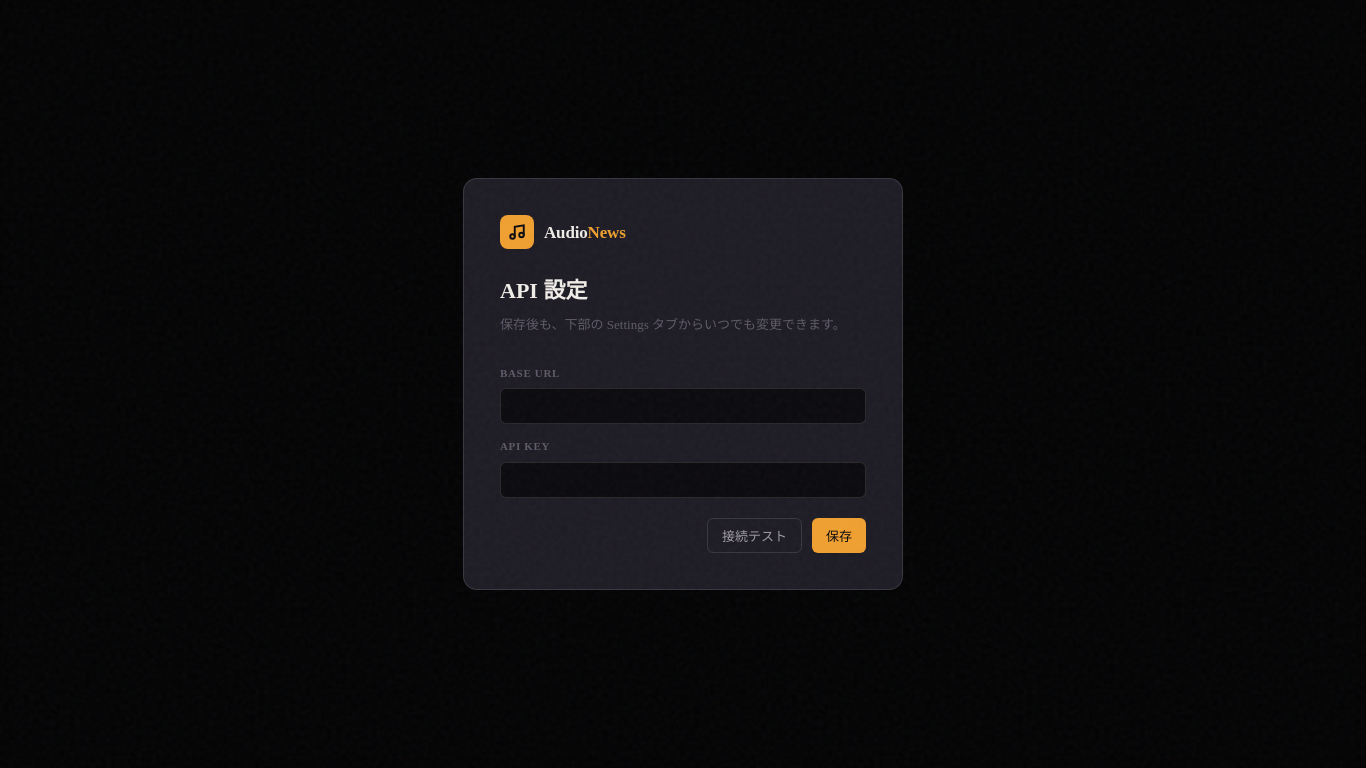
Scenario: SetupModal › Given URL without https:// prefix, shows inline error
Type "http-invalid.example.com" into the field labelled "Base URL". click: (683, 406)
box: [500, 388, 866, 424]
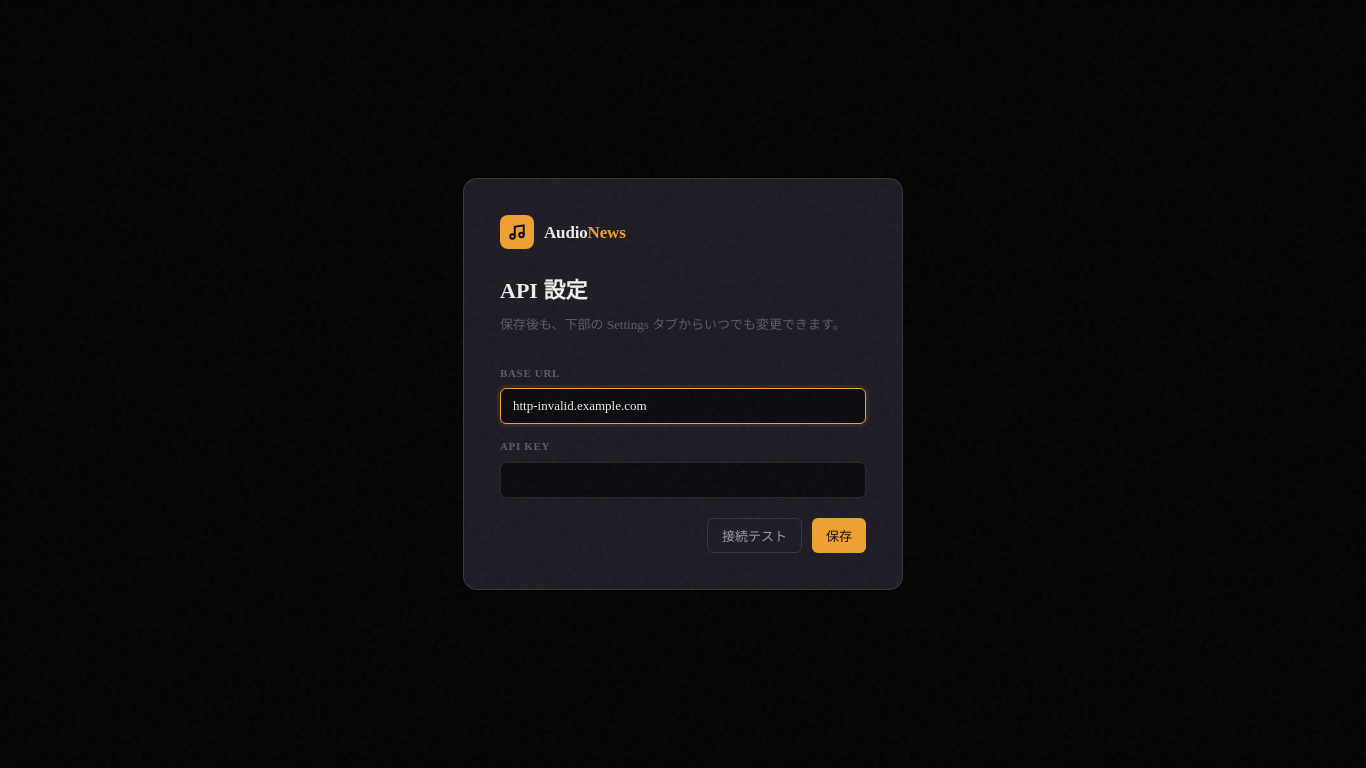
Type "my-key" into the password field labelled "API Key". click: (683, 480)
box: [500, 462, 866, 498]
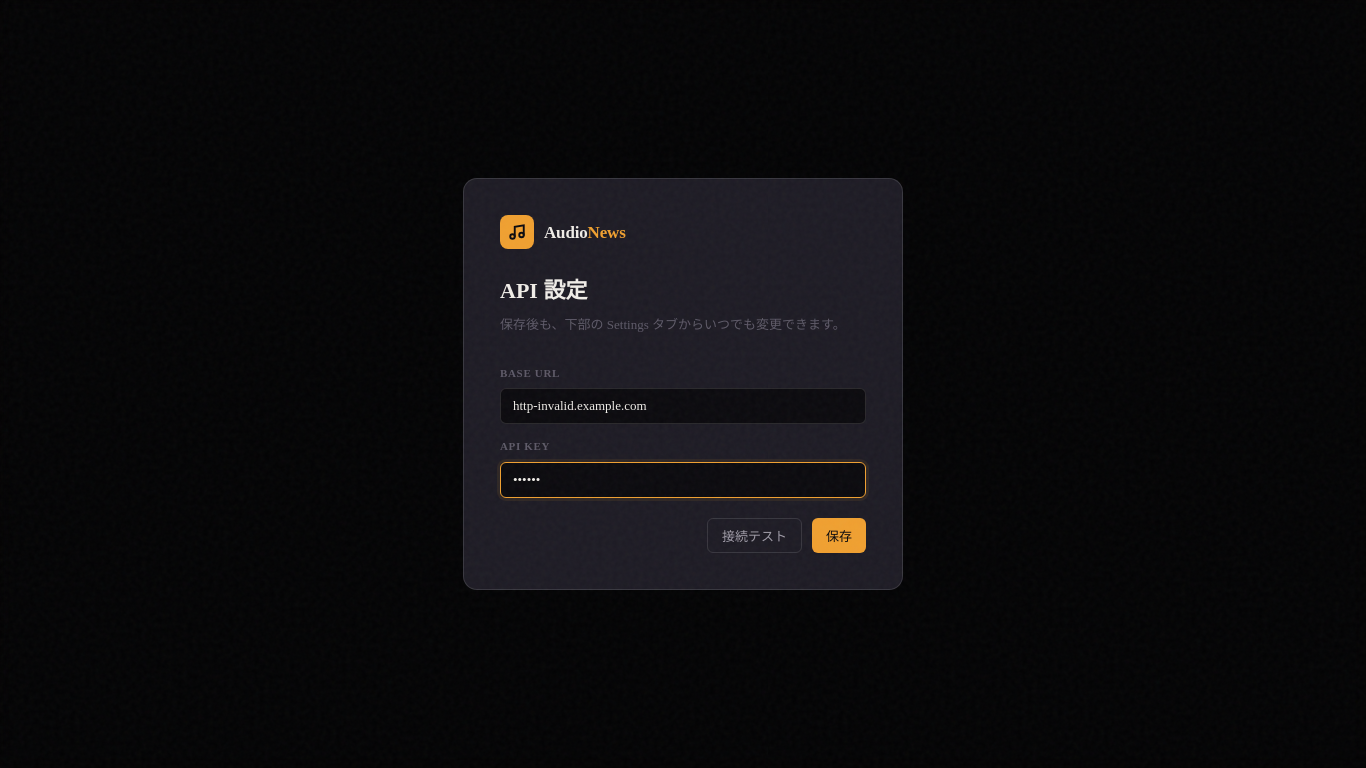
Click the button "保存". click: (839, 535)
box: [812, 518, 866, 553]
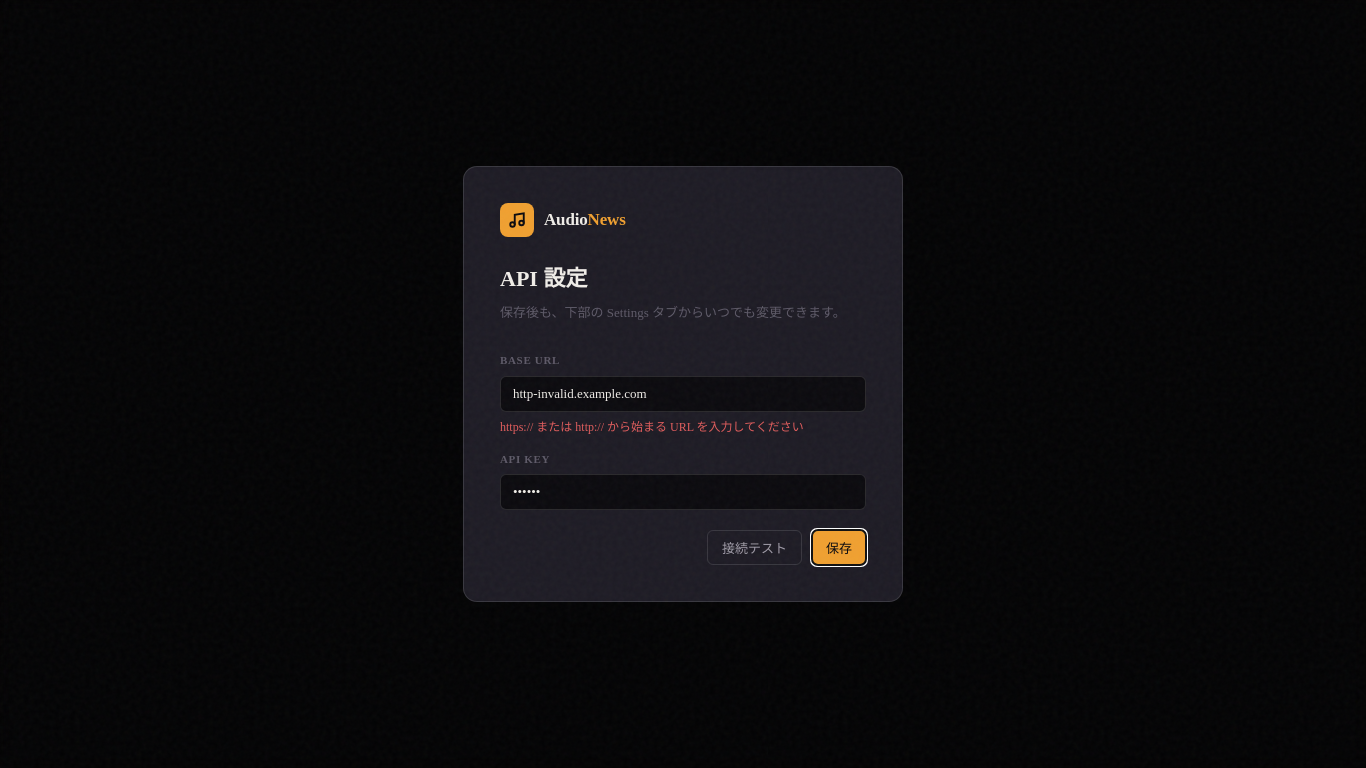
Result: the text "https:// または http:// から始まる URL を入力してください" is shown at [500, 420, 804, 434]
